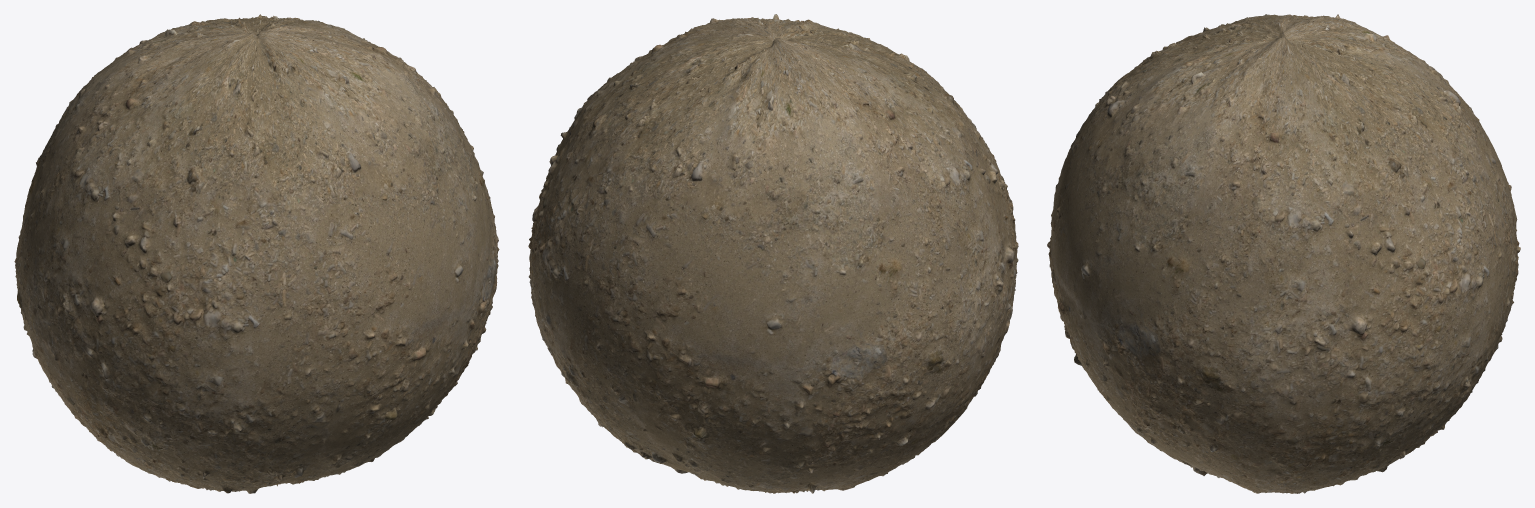
Rendered from coast_sand_02_1k.gltf.
The picture shows the model from 3 angles, left to right: view 1: azimuth 30°, elevation 25°; view 2: azimuth 150°, elevation 25°; view 3: azimuth 270°, elevation 25°; orthographic projection.
Visible parts, largest first — view 1: sphere_gltf; view 2: sphere_gltf; view 3: sphere_gltf.
Part boxes in pixels (box(x1,y1,x2,y2)): sphere_gltf: box(14, 14, 499, 493); sphere_gltf: box(528, 14, 1018, 493); sphere_gltf: box(1047, 14, 1520, 493).
Size of the model in its own units: 15.42 by 15.36 by 15.12.
Materials: 1 (1 with a texture image).
